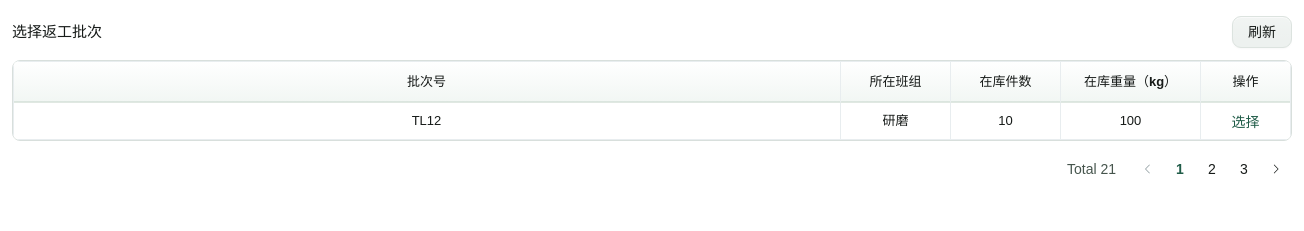
discards unavailable stock context and pages the server-side candidate list
Click the button "选择".
click(1246, 122)  # box top-left (1228, 112), bottom-right (1262, 132)
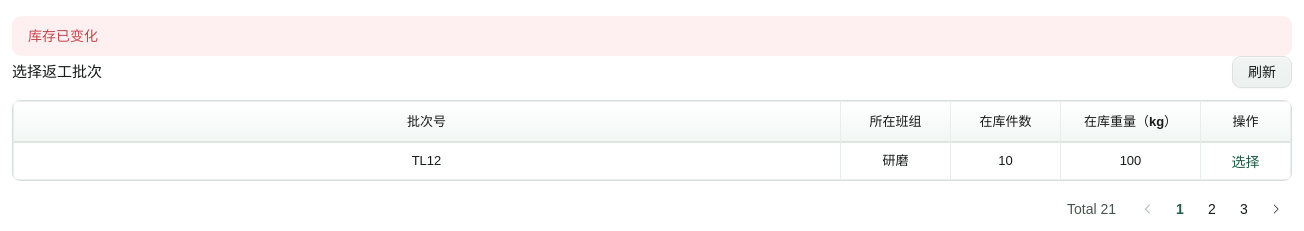
Expected: the text "库存已变化" is shown, top-left (28, 24), bottom-right (98, 48)
